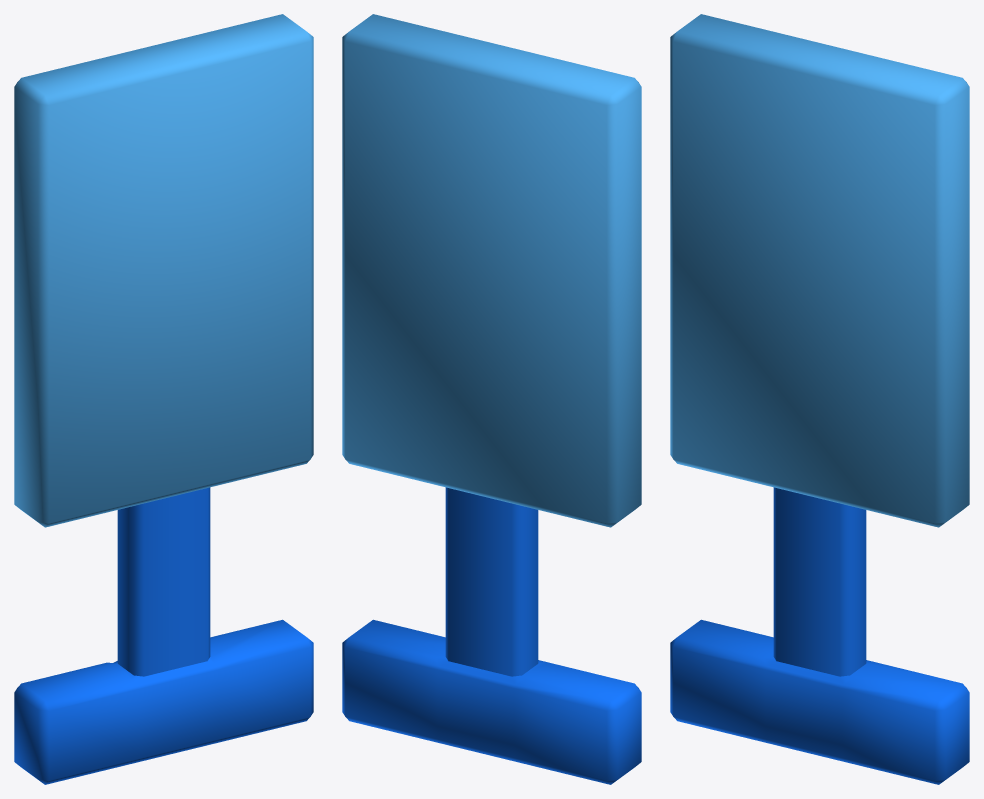
The model's file is Gimmick_02.fbx.
3 renders of one model, left to right at view 1: azimuth 30°, elevation 25°; view 2: azimuth 150°, elevation 25°; view 3: azimuth 330°, elevation 25°, orthographic.
Parts seen in each view (by area): view 1: Gimmick_02; view 2: Gimmick_02; view 3: Gimmick_02.
Part boxes in pixels (x1,y1,x2,y2): Gimmick_02: (14,14,313,784); Gimmick_02: (342,14,641,784); Gimmick_02: (670,14,969,784).
Bounding box in the file's own units: 2 × 4.78 × 0.4.
